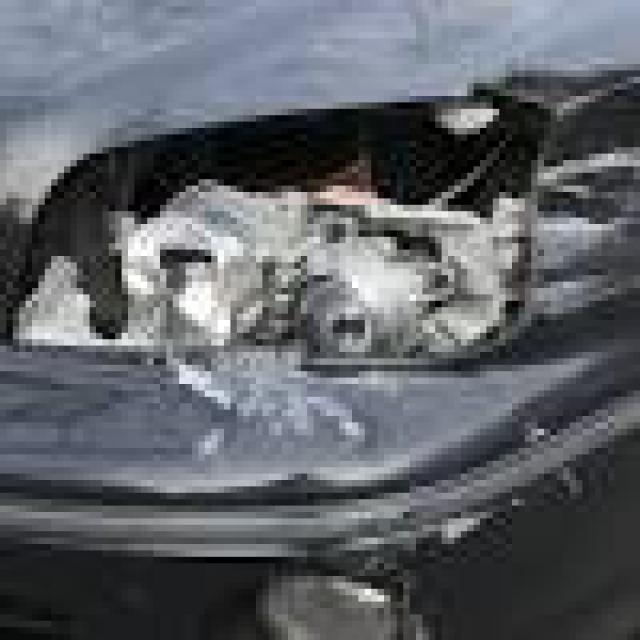Headlight-Damage: (1, 88, 584, 402)
